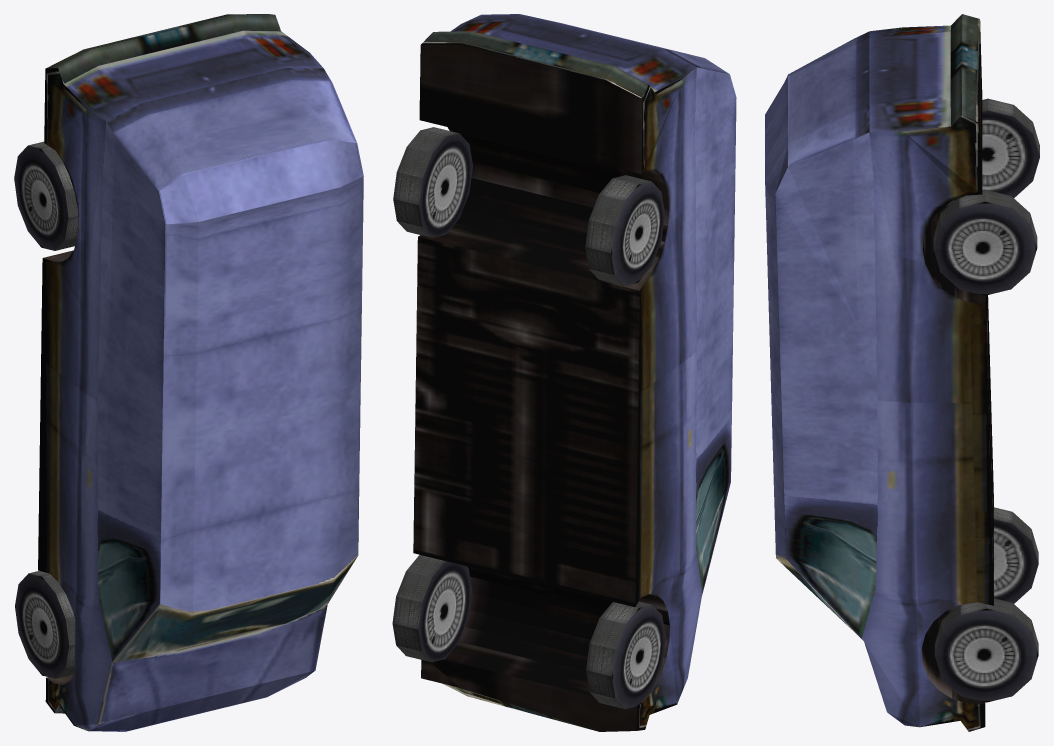
Rendered from carpack_vanblue_wtf.obj.
The picture shows the model from 3 angles, left to right: view 1: azimuth 30°, elevation 25°; view 2: azimuth 150°, elevation 25°; view 3: azimuth 270°, elevation 25°; orthographic projection. The views are drawn at different scales.
Visible parts, largest first — view 1: group2; view 2: group2; view 3: group2.
Part boxes in pixels (left/top/right/bottom): group2: left=14, top=14, right=363, bottom=731; group2: left=392, top=14, right=736, bottom=731; group2: left=765, top=14, right=1039, bottom=731.
Size of the model in its own units: 238 by 660 by 259.
